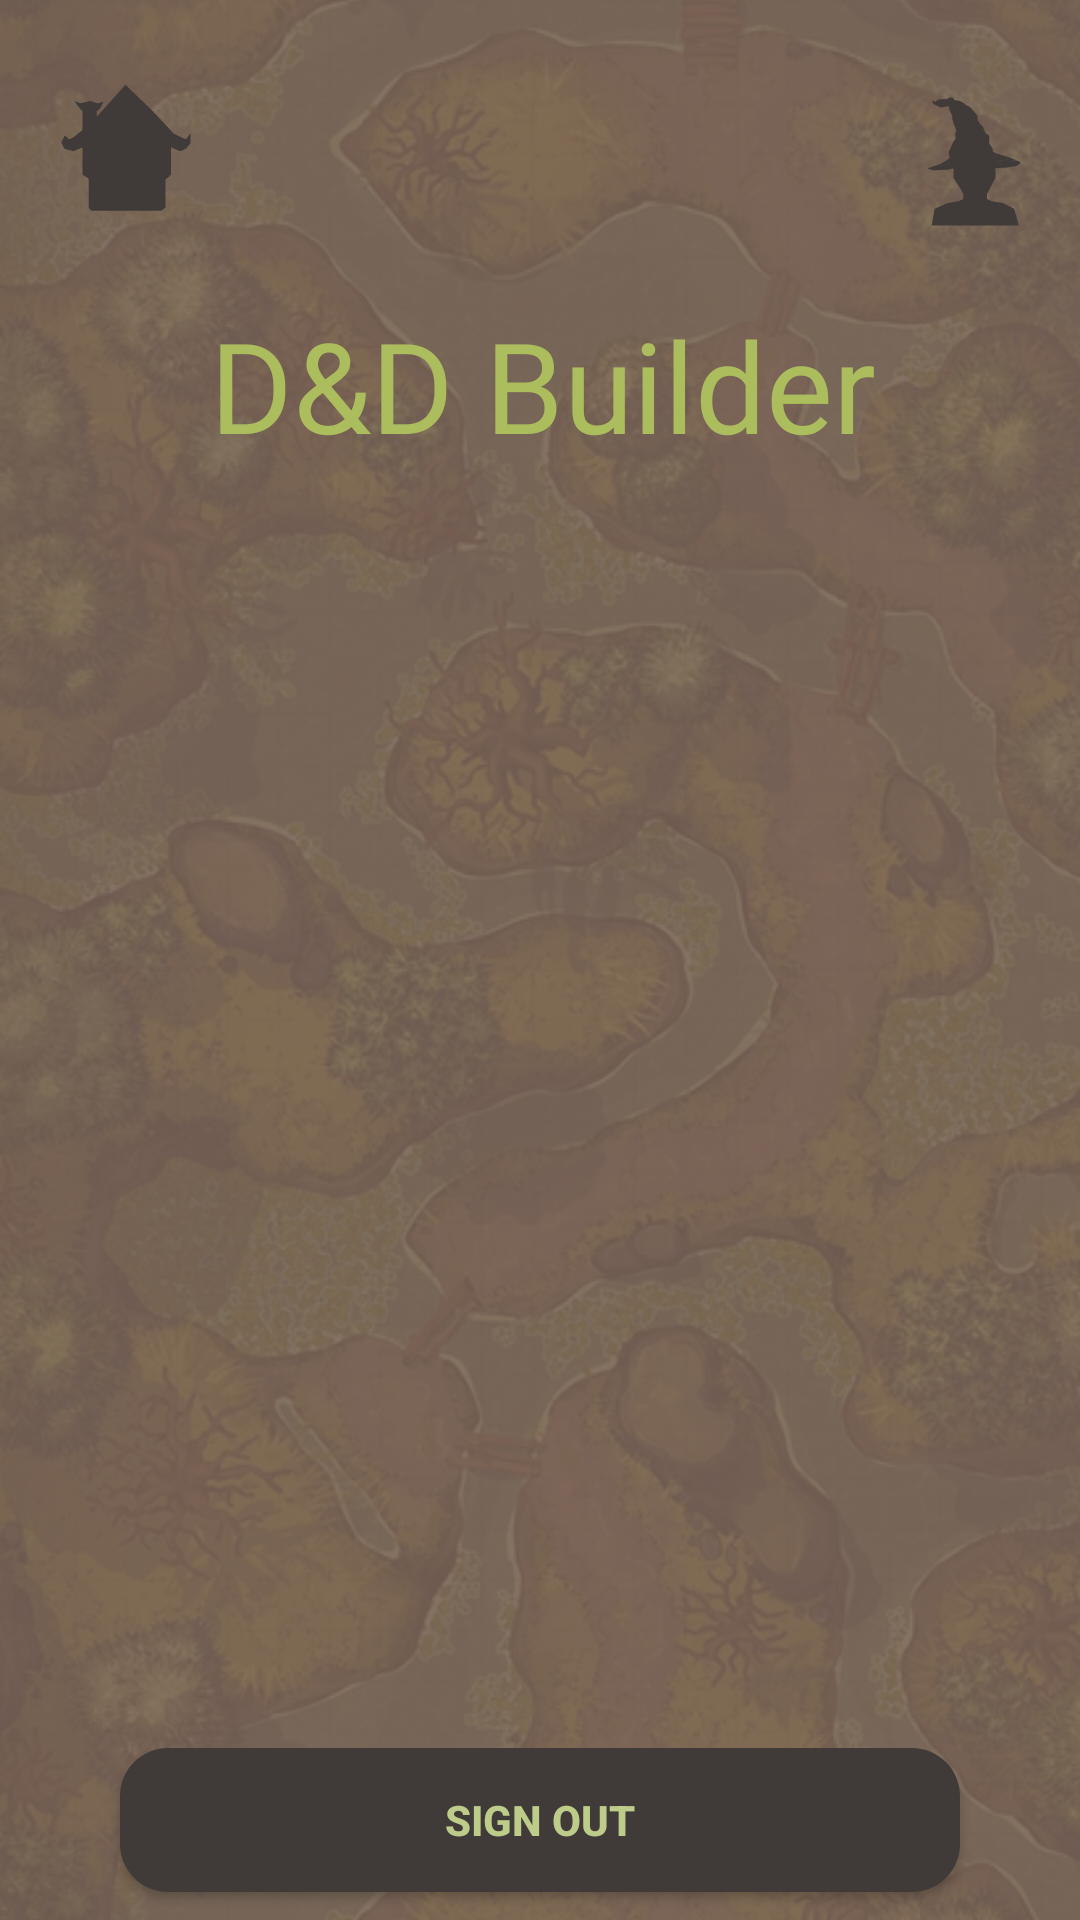

Named icons in this screenshot (1080*1920) and their bounding boxes, detection(x1, y1, x2, y2):
mini house: detection(61, 85, 191, 211)
witch: detection(928, 97, 1020, 226)
